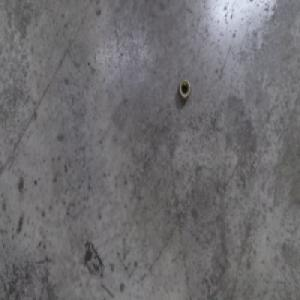Nut: (178, 77, 190, 101)
